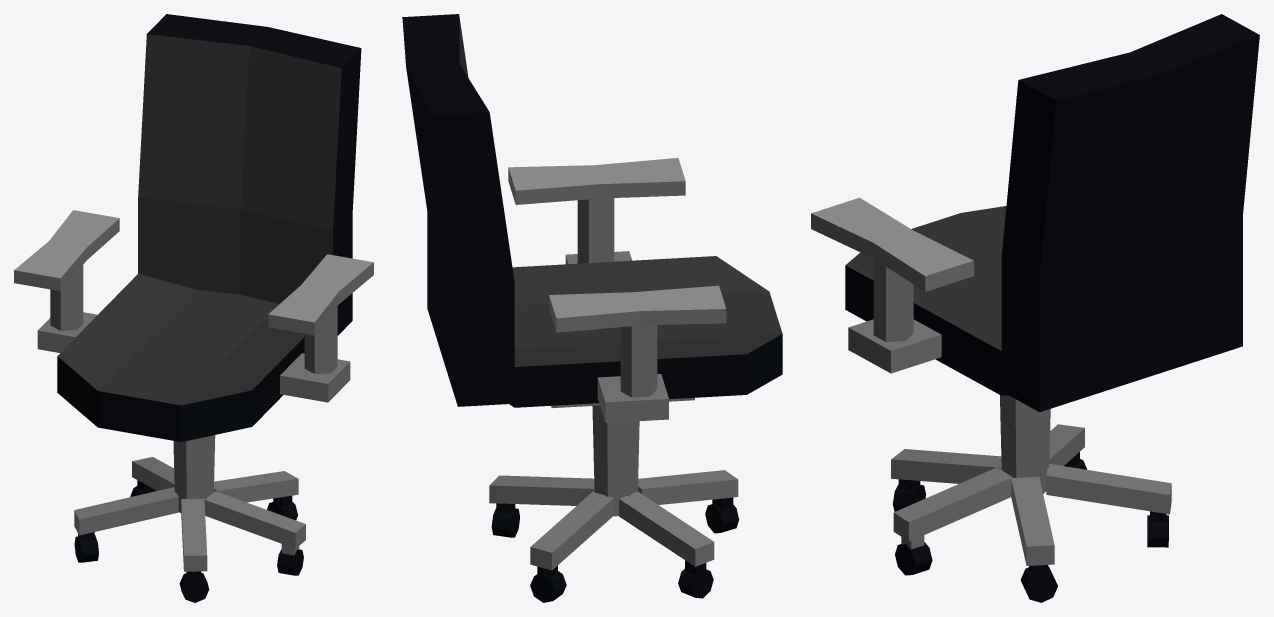
Rendered from OfficeChairBlack.fbx.
The picture shows the model from 3 angles, left to right: view 1: azimuth 30°, elevation 25°; view 2: azimuth 150°, elevation 25°; view 3: azimuth 270°, elevation 25°; orthographic projection. The views are drawn at different scales.
Visible parts, largest first — view 1: OfficeChair.002; view 2: OfficeChair.002; view 3: OfficeChair.002.
Part boxes in pixels (x1,y1,x2,y2): OfficeChair.002: (14, 14, 373, 602); OfficeChair.002: (402, 14, 782, 602); OfficeChair.002: (811, 14, 1259, 602).
Size of the model in its own units: 98.8 by 133 by 98.89.
